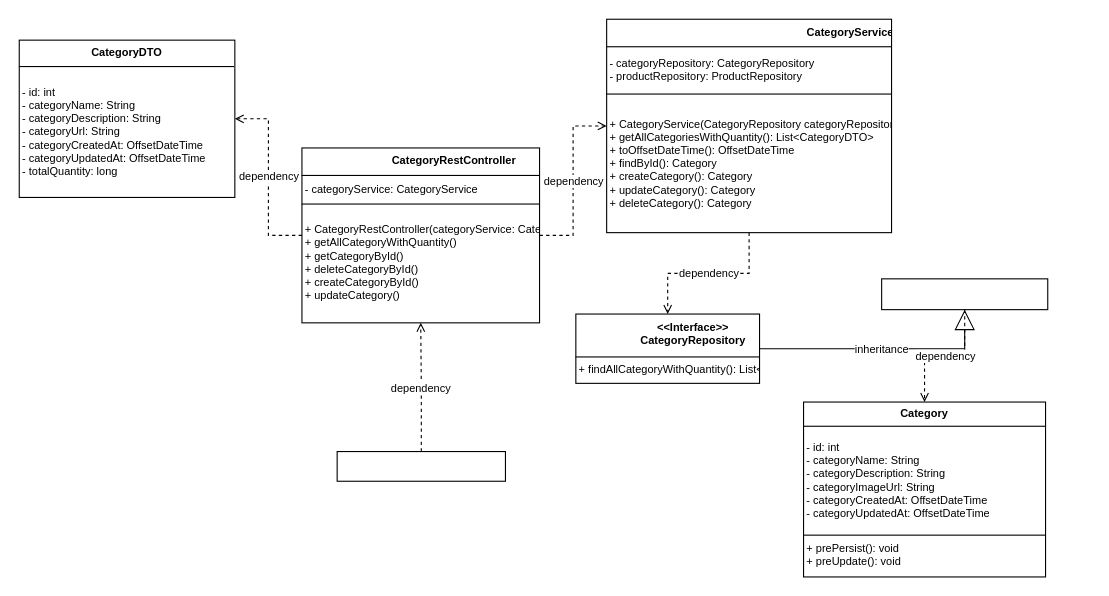
Image size: 1109x596. Some labels were removed from this diagram. Each missing label, with the centre of its shape:
"CategoryDashboard" belongs at (420,465).
"JpaRepository" belongs at (964,294).
